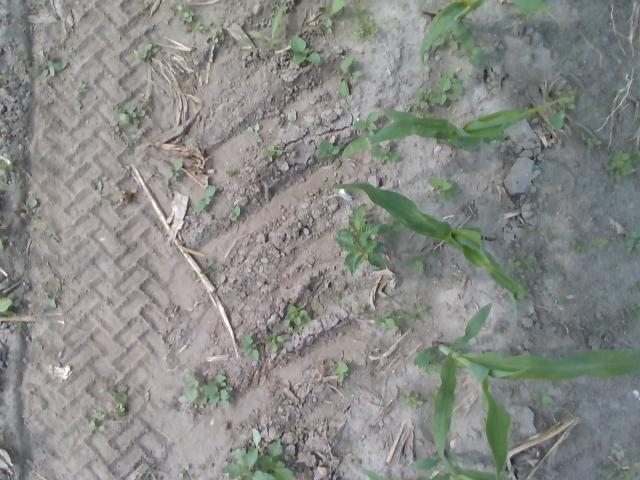Maize: (412, 303, 640, 480), (326, 180, 536, 320), (330, 94, 570, 160), (416, 0, 565, 74), (344, 442, 512, 480)
Weeds: (334, 202, 396, 274), (220, 426, 294, 480), (246, 2, 288, 51), (183, 372, 234, 410), (416, 69, 462, 108), (348, 0, 378, 42), (429, 18, 468, 50), (454, 34, 492, 66), (550, 87, 577, 131), (606, 148, 640, 182), (374, 308, 421, 330), (35, 50, 69, 80), (338, 55, 362, 96), (282, 303, 312, 334), (290, 34, 320, 64), (318, 0, 345, 33), (428, 175, 461, 202), (376, 214, 406, 243), (599, 460, 640, 480), (112, 104, 146, 128), (176, 2, 203, 31), (414, 350, 443, 376), (504, 250, 536, 273), (351, 112, 379, 137), (40, 282, 64, 310), (194, 186, 217, 214), (316, 140, 344, 160), (369, 145, 398, 164), (238, 334, 258, 361), (87, 411, 108, 434), (405, 100, 431, 118), (530, 388, 554, 407), (198, 257, 222, 276), (114, 384, 128, 416), (398, 391, 422, 409), (265, 331, 286, 351), (96, 180, 112, 205), (331, 361, 350, 382), (512, 280, 530, 302), (404, 254, 426, 272), (22, 198, 38, 220), (612, 86, 632, 103), (568, 235, 586, 253), (138, 44, 161, 58), (167, 161, 182, 182), (626, 228, 640, 250), (580, 132, 602, 146), (0, 156, 16, 175), (205, 27, 223, 43), (587, 237, 609, 250), (413, 302, 430, 318), (524, 106, 538, 125), (0, 297, 14, 316), (454, 360, 467, 379), (544, 226, 560, 241), (262, 145, 282, 157), (121, 132, 138, 146), (71, 82, 89, 95), (478, 418, 490, 435), (519, 9, 533, 23), (426, 389, 439, 403), (229, 204, 240, 220), (541, 266, 552, 279), (629, 304, 640, 317), (356, 302, 367, 314), (178, 465, 189, 477), (247, 123, 260, 133), (110, 120, 120, 132), (383, 292, 394, 302), (138, 464, 149, 474), (0, 68, 9, 80), (136, 92, 146, 102), (273, 397, 283, 407), (342, 438, 351, 448), (292, 430, 302, 438), (616, 262, 624, 270), (226, 169, 234, 177), (46, 227, 55, 234), (197, 466, 206, 473), (302, 469, 309, 477), (634, 282, 640, 291), (0, 237, 4, 246)
